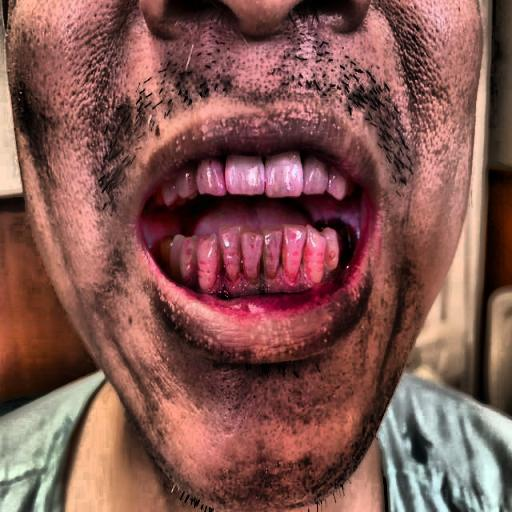Plaque: (156, 227, 365, 295)
